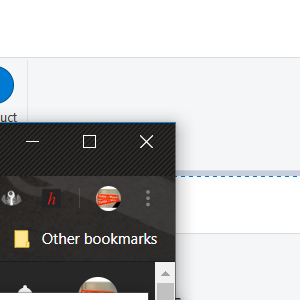close: (127, 125, 163, 157)
